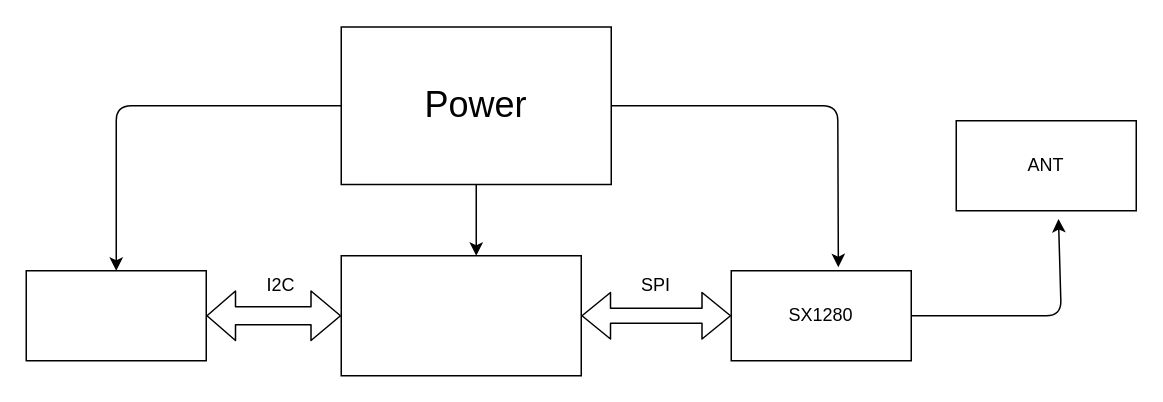
This 1163x402 diagram has some shape labels left out. The box of each missing label's shape, as (x1, y1, x2, y2) in pixels:
BMP280: (25, 269, 206, 361)
MCU: (340, 254, 581, 376)
